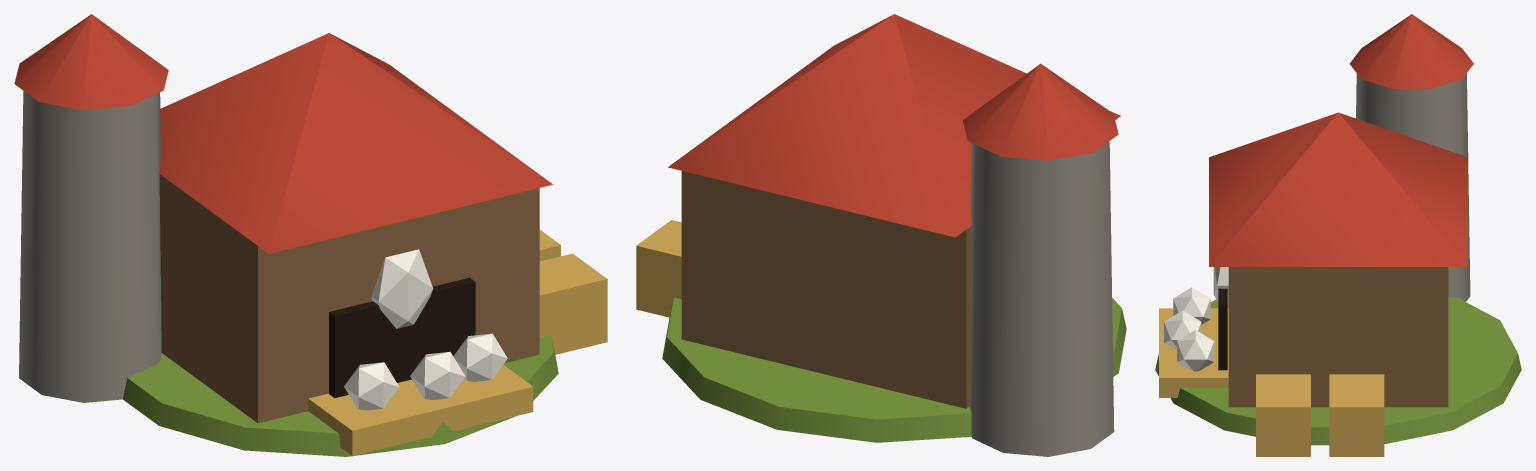
The model's file is level2.glb.
3 views of the same model, side by side, from view 1: azimuth 30°, elevation 25°; view 2: azimuth 150°, elevation 25°; view 3: azimuth 270°, elevation 25° (orthographic). The views are drawn at different scales.
Size of the model in its own units: 2.54 by 1.8 by 2.12.
